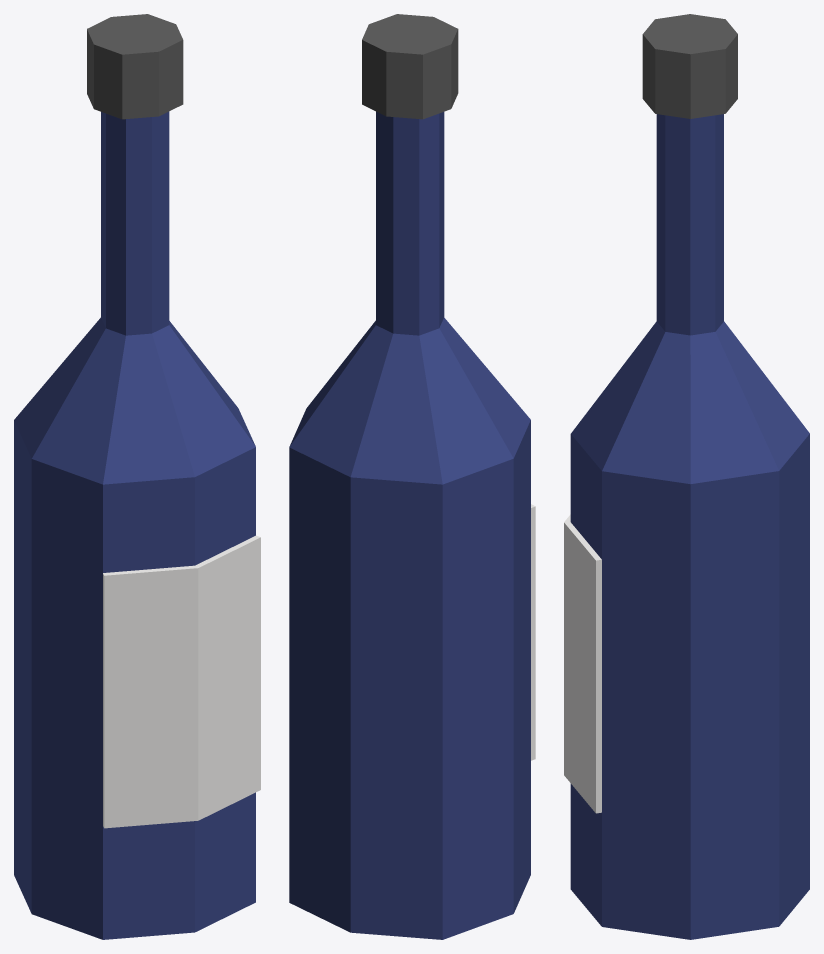
File: Wine_Bottle_3.fbx
3 renders of one model, left to right at view 1: azimuth 30°, elevation 25°; view 2: azimuth 150°, elevation 25°; view 3: azimuth 270°, elevation 25°, orthographic.
Visible parts, largest first — view 1: Wine_Bottle_3; view 2: Wine_Bottle_3; view 3: Wine_Bottle_3.
Part boxes in pixels (x1,y1,x2,y2): Wine_Bottle_3: (14, 14, 260, 939); Wine_Bottle_3: (289, 14, 535, 939); Wine_Bottle_3: (564, 14, 809, 939).
Bounding box in the file's own units: 15.58 × 16.02 × 61.45.
